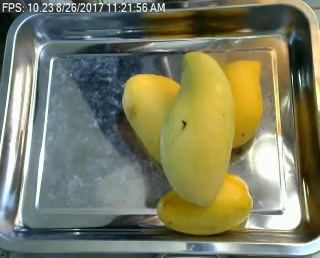Mango: (162, 52, 237, 205), (123, 73, 193, 167), (155, 173, 254, 234), (208, 59, 261, 149)
